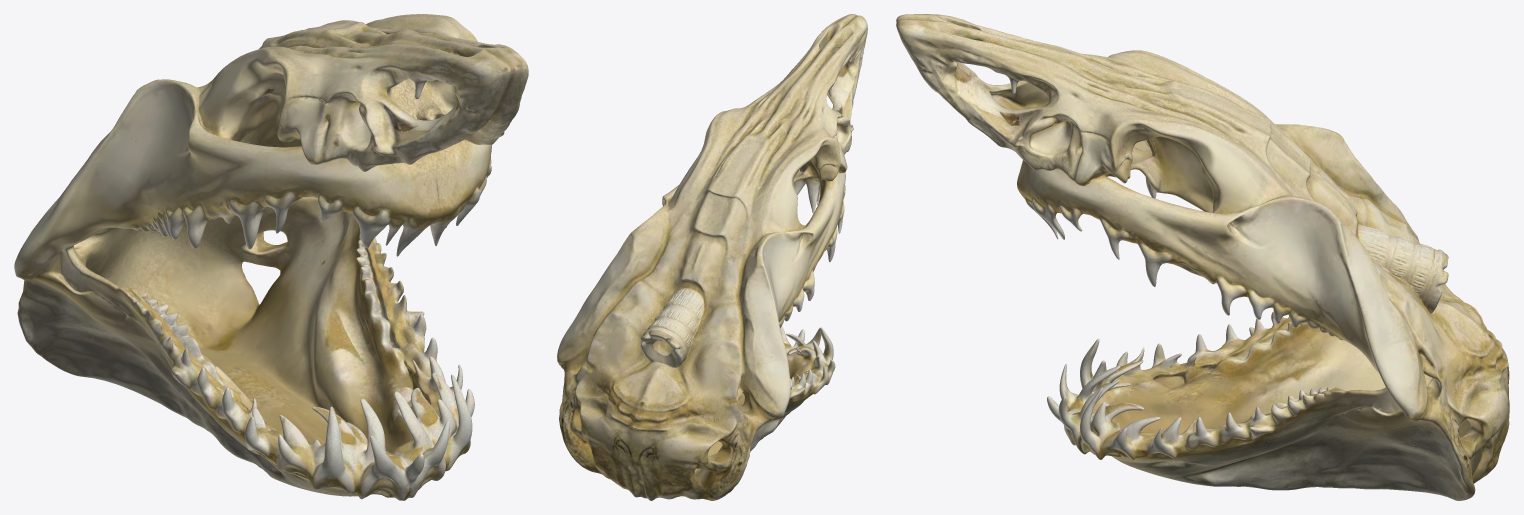
3 renders of one model, left to right at view 1: azimuth 30°, elevation 25°; view 2: azimuth 150°, elevation 25°; view 3: azimuth 270°, elevation 25°, orthographic. The views are drawn at different scales.
Parts seen in each view (by area): view 1: Mesh_0; view 2: Mesh_0; view 3: Mesh_0.
Part boxes in pixels (bbox=[...]): Mesh_0: bbox=[14, 14, 528, 500]; Mesh_0: bbox=[557, 14, 867, 500]; Mesh_0: bbox=[896, 14, 1509, 500].
Bounding box in the file's own units: 1.12 × 1.55 × 1.9.
Materials: 1 (1 with a texture image).
